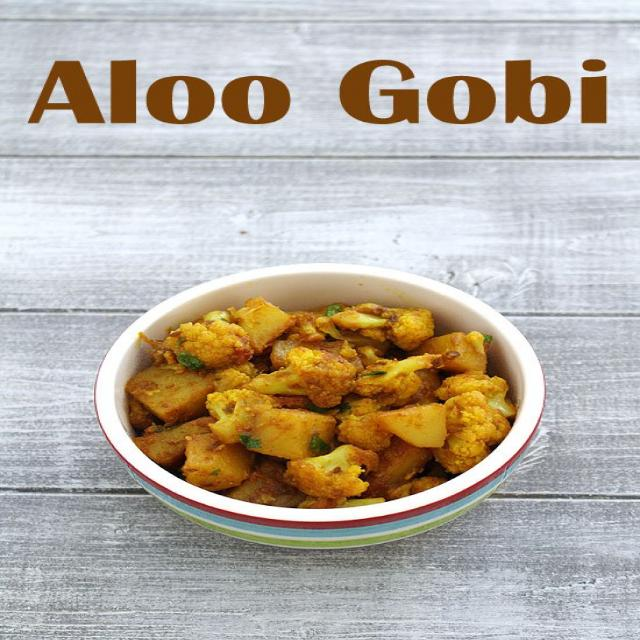Aloo Gobi: (179, 294, 501, 506)
